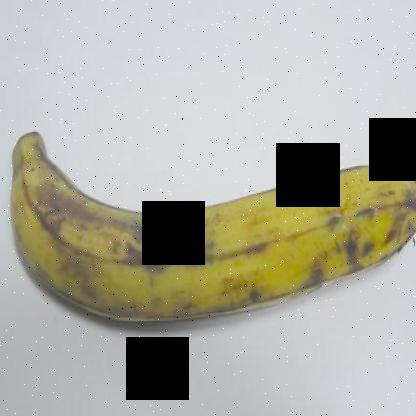overripe: (6, 117, 415, 339)
